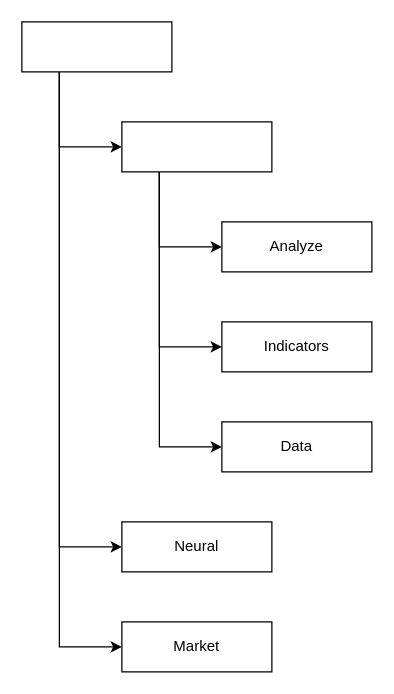
The diagram is 394 pixels wide and 694 high, and some of its shapes have lost their labels. The centre of each missing label's shape, as x and y in pixels:
"Cardinal" belongs at (96,46).
"Core" belongs at (196,146).
